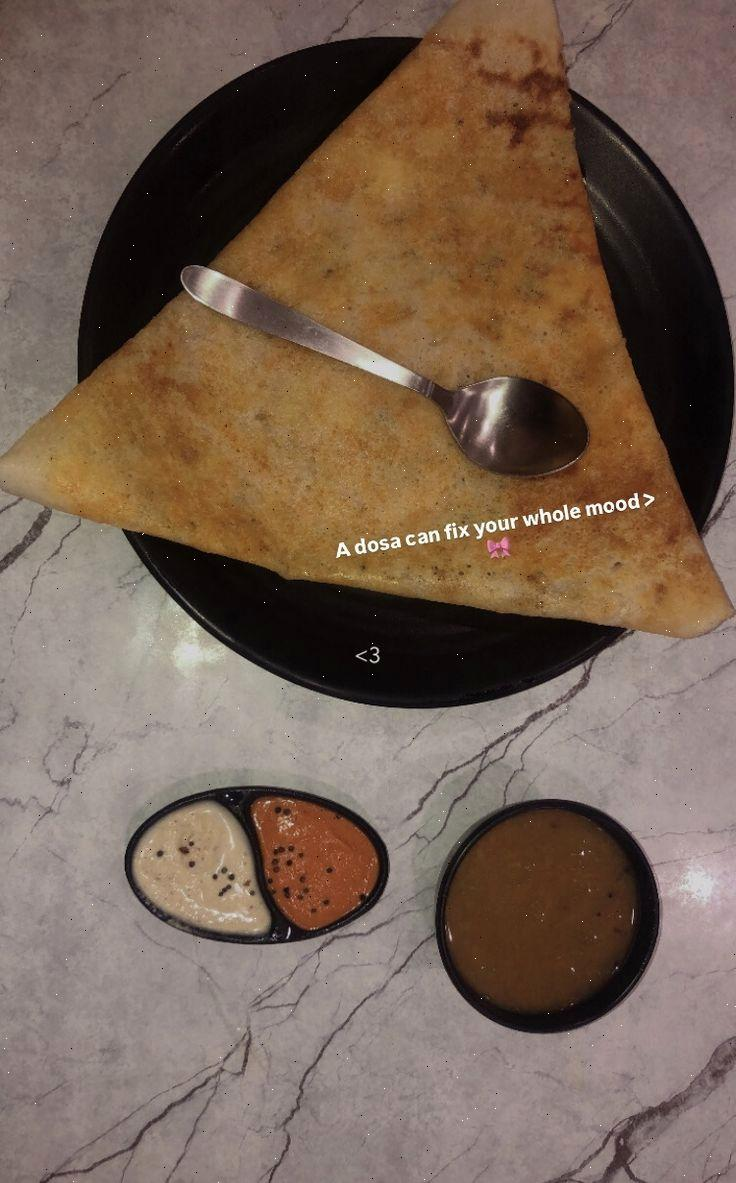dosa: (77, 9, 736, 661)
